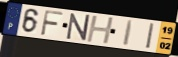6: (20, 8, 41, 35)
F: (39, 9, 65, 37)
H: (86, 15, 116, 45)
I: (122, 19, 135, 48), (145, 22, 156, 51)
N: (66, 13, 91, 42)
